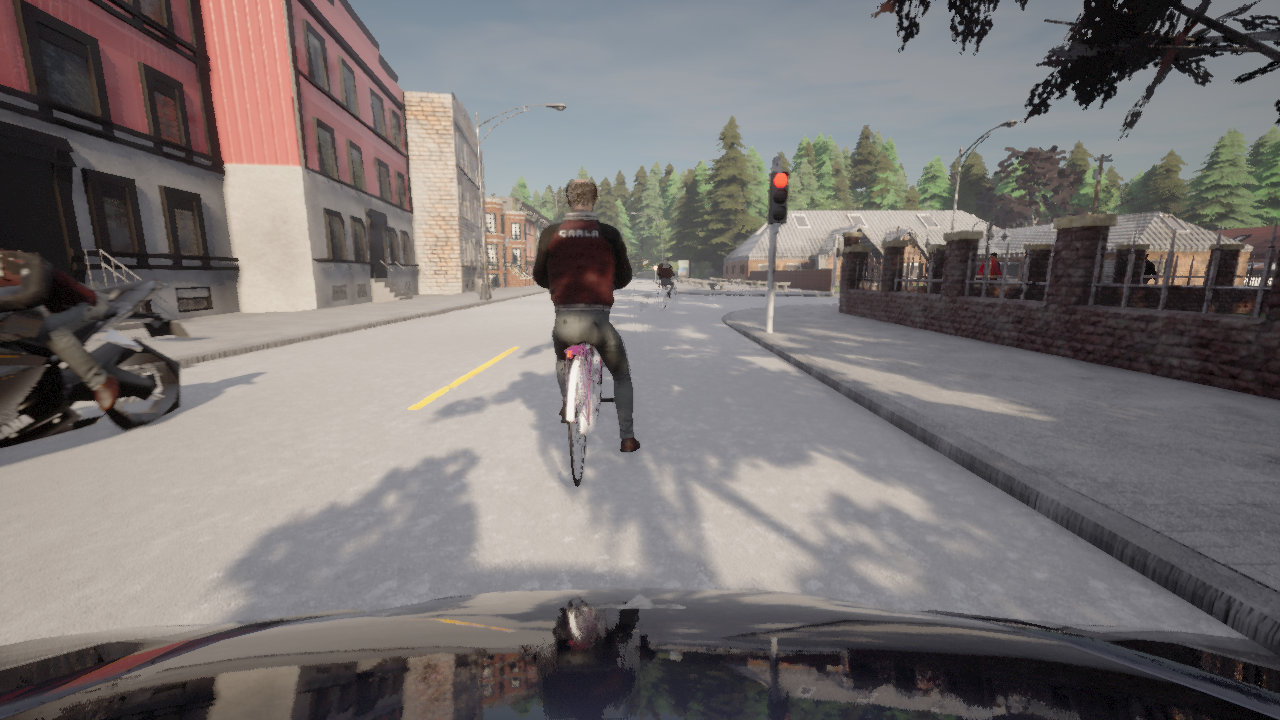cyclist: (0, 588, 1279, 719), (0, 278, 191, 449), (560, 343, 613, 486), (658, 286, 675, 310)
pedestrian: (975, 251, 1002, 285), (1141, 253, 1156, 284)
